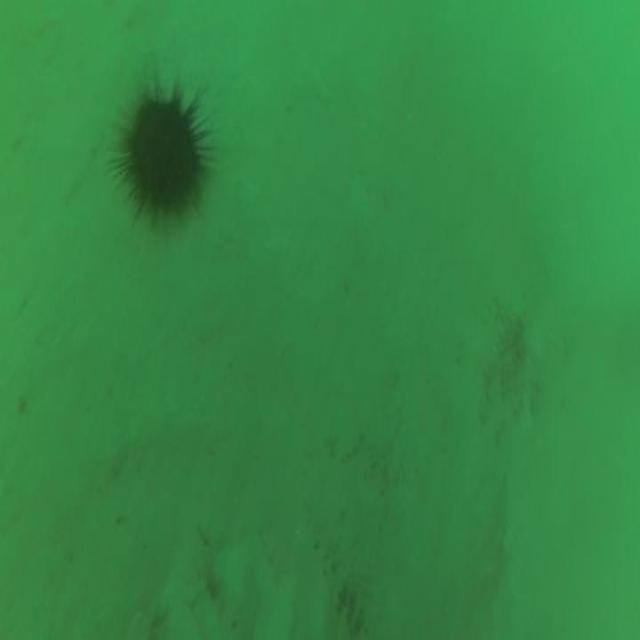echinus: (126, 99, 201, 215)
